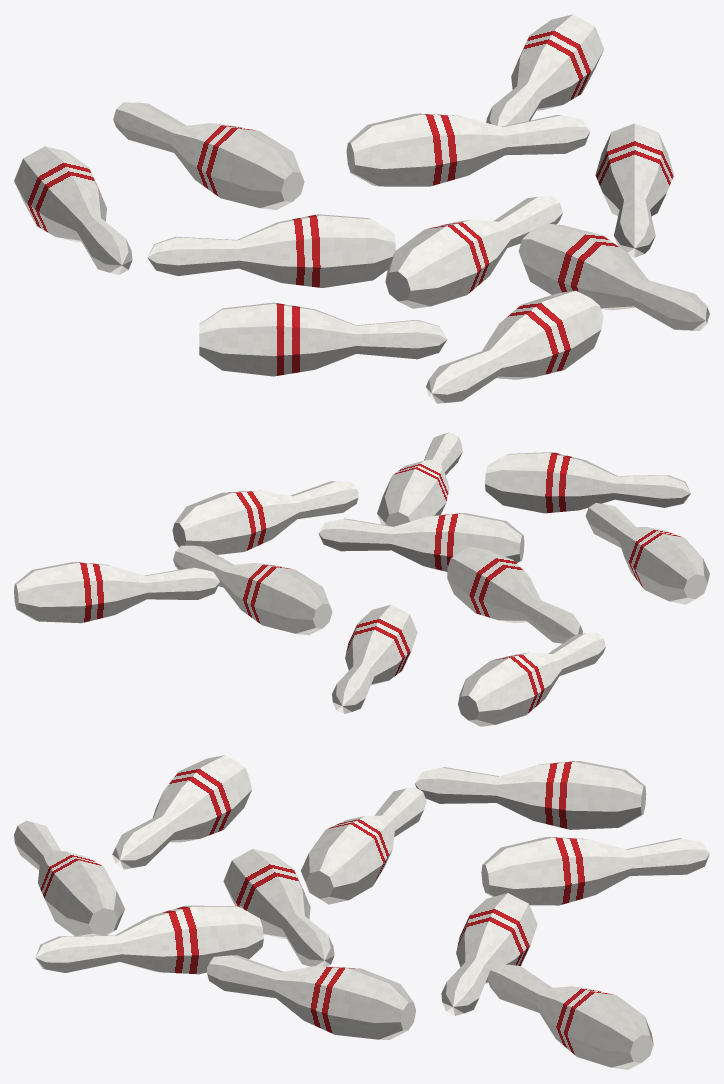
Rendered from pins_fallen_r.obj.
The picture shows the model from 3 angles, top to bottom: view 1: azimuth 30°, elevation 25°; view 2: azimuth 150°, elevation 25°; view 3: azimuth 270°, elevation 25°; orthographic projection. The views are drawn at different scales.
Visible parts, largest first — view 1: pins_fallen_r; view 2: pins_fallen_r; view 3: pins_fallen_r.
Part boxes in pixels (x1,y1,x2,y2): pins_fallen_r: (14, 14, 709, 403); pins_fallen_r: (14, 432, 709, 726); pins_fallen_r: (14, 755, 709, 1069).
Size of the model in its own units: 1.09 by 0.1209 by 1.14.
